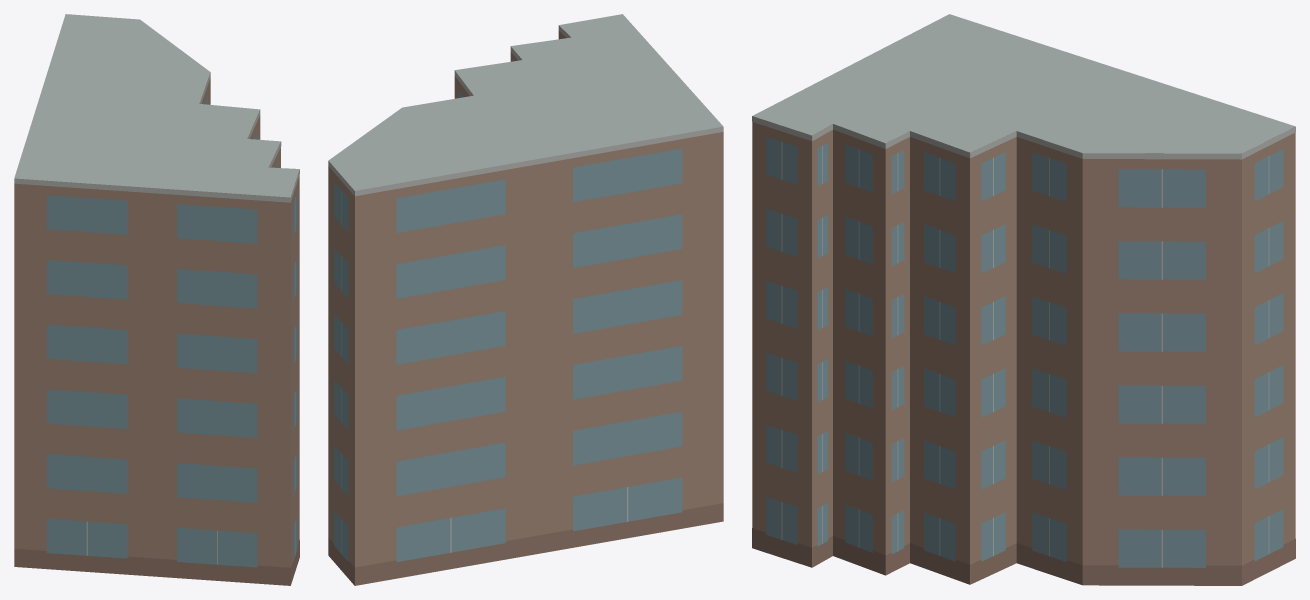
The model's file is survey-upis-33002083.glb.
The picture shows the model from 3 angles, left to right: view 1: azimuth 30°, elevation 25°; view 2: azimuth 150°, elevation 25°; view 3: azimuth 270°, elevation 25°; orthographic projection. The views are drawn at different scales.
Parts seen in each view (by area): view 1: survey-upis-33002083.tmp; view 2: survey-upis-33002083.tmp; view 3: survey-upis-33002083.tmp.
Part boxes in pixels (x1,y1,x2,y2): survey-upis-33002083.tmp: (14,14,299,585); survey-upis-33002083.tmp: (328,14,723,585); survey-upis-33002083.tmp: (752,14,1295,585).
Bounding box in the file's own units: 12.7 × 18.3 × 20.87.
